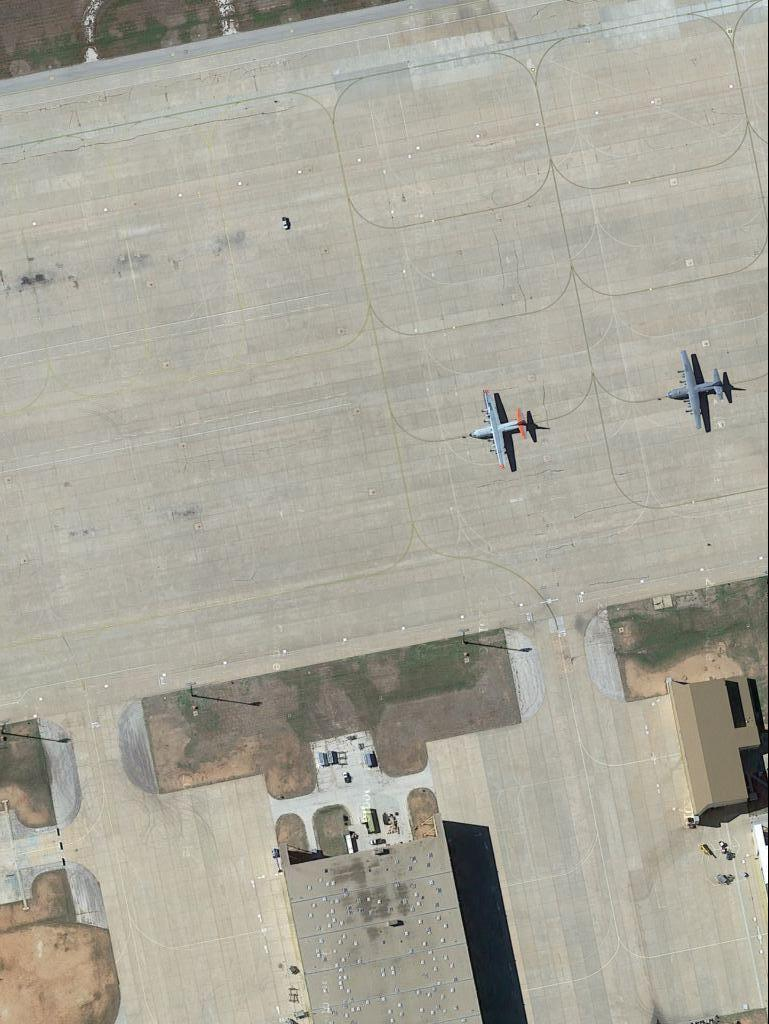C-130: (466, 382, 535, 477), (663, 350, 724, 435)
